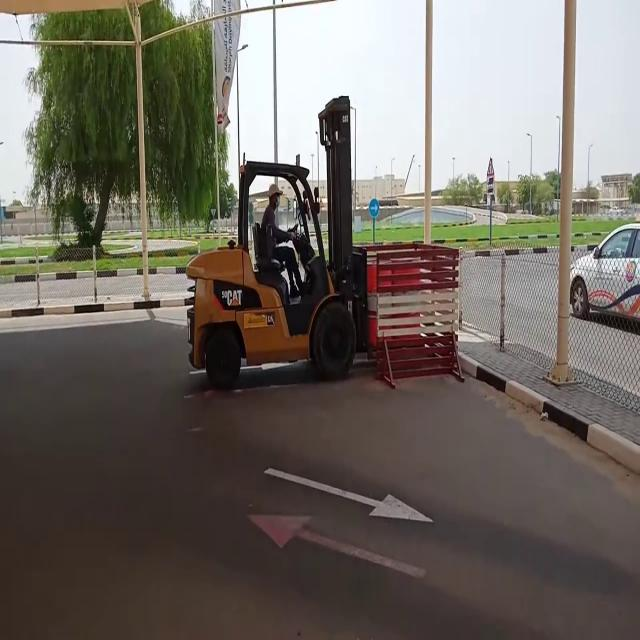Chariot elevateur: (178, 151, 364, 403)
